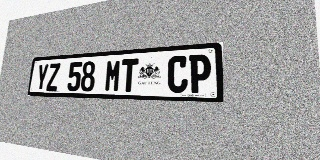5: (67, 62, 82, 91)
8: (80, 61, 96, 92)
C: (167, 55, 188, 93)
M: (104, 59, 122, 92)
P: (188, 54, 211, 93)
T: (120, 58, 139, 92)
Y: (35, 64, 49, 91)
Z: (46, 63, 61, 91)
